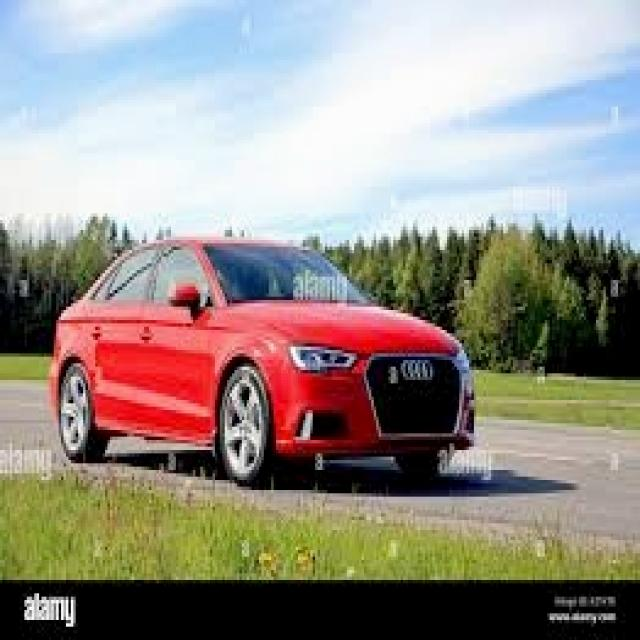red: (52, 218, 474, 459)
